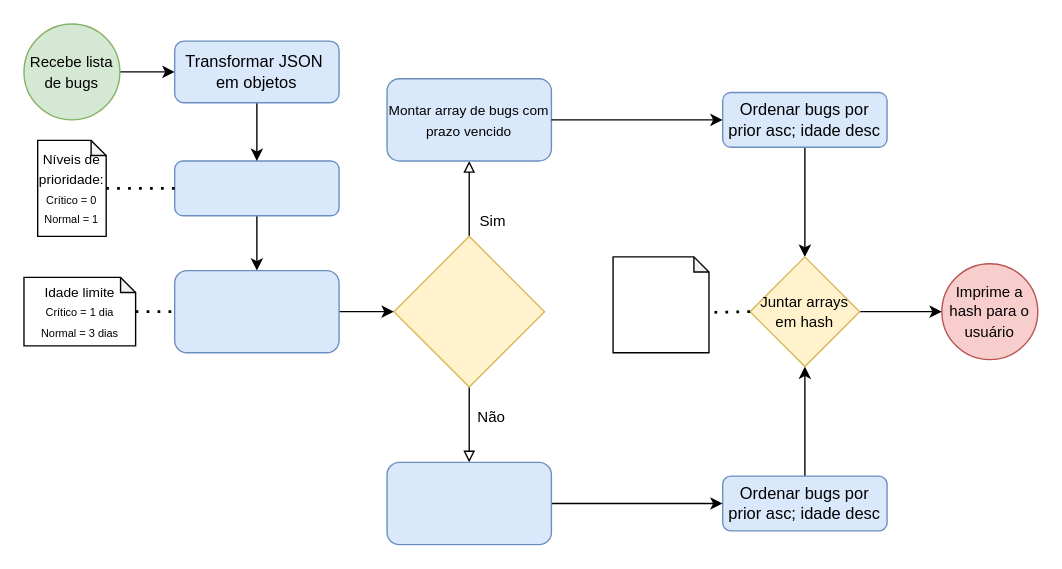
Some shapes in this 1062 by 569 pixel diagram are drawn without their labels. The centre of each missing label's shape, as x and y in pixels:
"Converter prioridade em número" goes at point 256,188.
"Filtrar bugs com idade >= limite" goes at point 256,311.
"Montar array de bugs a serem resolvidos hoje" goes at point 468,503.
"Para cada bug: Idade > limite?" goes at point 469,311.
"resultado = { vencidos => [...], hoje => [...] }" goes at point 660,304.
